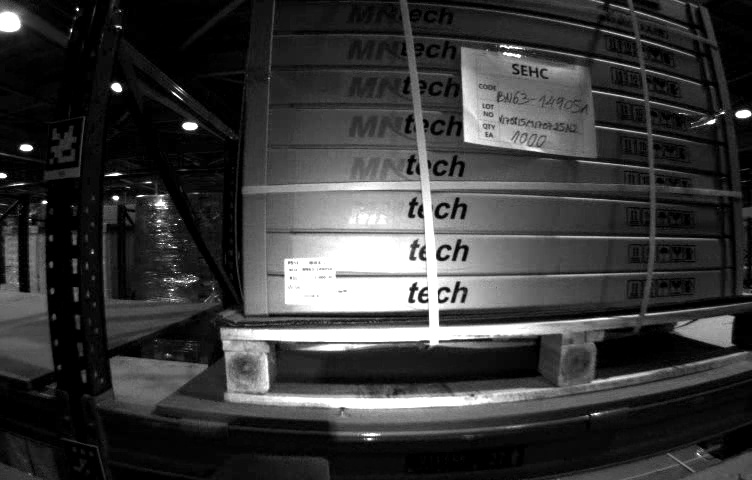True Barcode: (283, 258, 336, 304)
